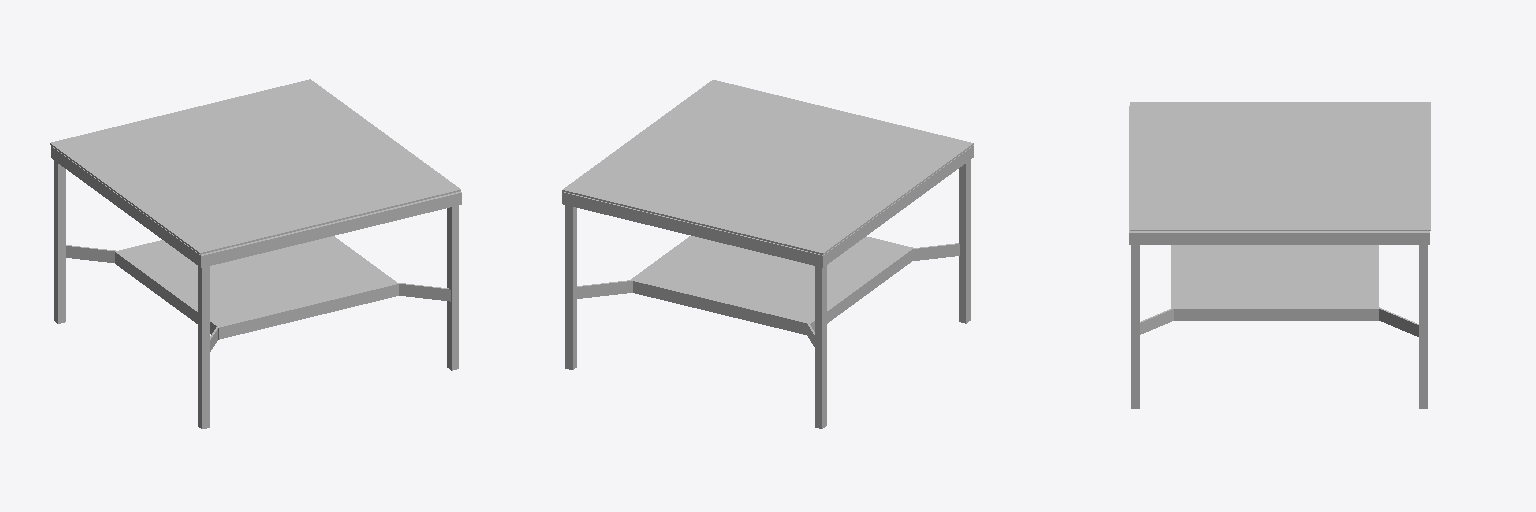
The model's file is tableBasseCarree.obj.
The picture shows the model from 3 angles: view 1: azimuth 30°, elevation 25°; view 2: azimuth 150°, elevation 25°; view 3: azimuth 270°, elevation 25°; orthographic projection.
Visible parts, largest first — view 1: sweethome3d_window_pane, Couche:OBJECT010, Couche:OBJECT002, Couche:OBJECT003, Couche:OBJECT006, Couche:OBJECT007, Couche:OBJECT004, Couche:OBJECT009; view 2: sweethome3d_window_pane, Couche:OBJECT010, Couche:OBJECT000, Couche:OBJECT003, Couche:OBJECT005, Couche:OBJECT004, Couche:OBJECT006, Couche:OBJECT008; view 3: sweethome3d_window_pane, Couche:OBJECT010, Couche:OBJECT001, Couche:OBJECT005, Couche:OBJECT007, Couche:OBJECT008, Couche:OBJECT009.
Boxes of the visible parts, x1=… form: sweethome3d_window_pane: x1=50, y1=79, x2=460, y2=254; Couche:OBJECT010: x1=115, y1=236, x2=398, y2=339; Couche:OBJECT002: x1=212, y1=194, x2=450, y2=264; Couche:OBJECT003: x1=51, y1=146, x2=212, y2=267; Couche:OBJECT006: x1=198, y1=266, x2=209, y2=428; Couche:OBJECT007: x1=447, y1=205, x2=458, y2=370; Couche:OBJECT004: x1=54, y1=161, x2=65, y2=323; Couche:OBJECT009: x1=66, y1=245, x2=450, y2=301; sweethome3d_window_pane: x1=562, y1=80, x2=973, y2=254; Couche:OBJECT010: x1=631, y1=236, x2=912, y2=334; Couche:OBJECT000: x1=574, y1=194, x2=811, y2=264; Couche:OBJECT003: x1=812, y1=145, x2=973, y2=267; Couche:OBJECT005: x1=565, y1=205, x2=576, y2=369; Couche:OBJECT004: x1=815, y1=265, x2=826, y2=428; Couche:OBJECT006: x1=959, y1=160, x2=970, y2=323; Couche:OBJECT008: x1=577, y1=243, x2=959, y2=298; sweethome3d_window_pane: x1=1130, y1=102, x2=1430, y2=230; Couche:OBJECT010: x1=1171, y1=245, x2=1378, y2=320; Couche:OBJECT001: x1=1129, y1=227, x2=1429, y2=244; Couche:OBJECT005: x1=1419, y1=245, x2=1427, y2=408; Couche:OBJECT007: x1=1131, y1=245, x2=1139, y2=408; Couche:OBJECT008: x1=1231, y1=245, x2=1418, y2=336; Couche:OBJECT009: x1=1140, y1=245, x2=1323, y2=334.
Bounding box in the file's own units: 1.47 × 0.9642 × 1.47.